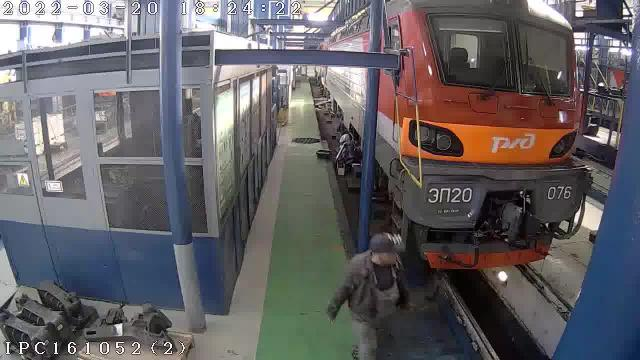person: (327, 233, 408, 359)
train: (375, 0, 591, 268)
